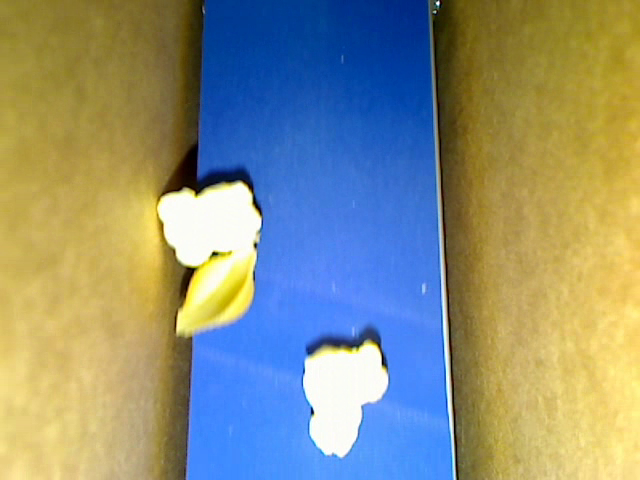shell: (175, 246, 257, 337)
